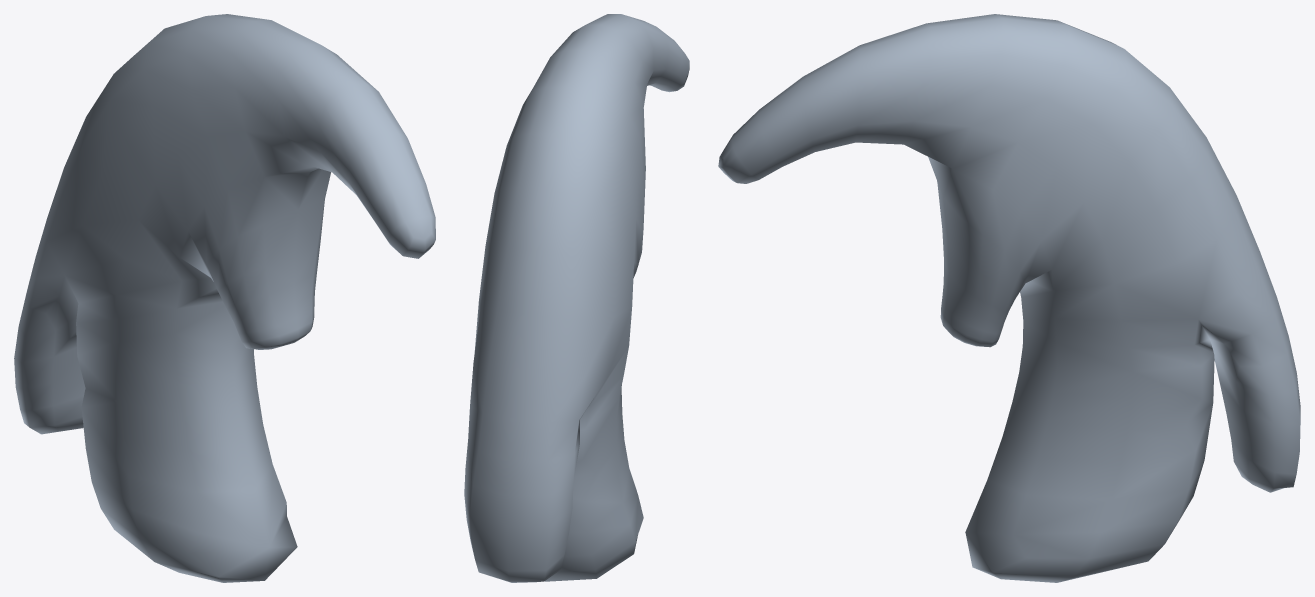
The model's file is Tail_09.fbx.
3 views of the same model, side by side, from view 1: azimuth 30°, elevation 25°; view 2: azimuth 150°, elevation 25°; view 3: azimuth 270°, elevation 25° (orthographic). The views are drawn at different scales.
Visible parts, largest first — view 1: Tail_09; view 2: Tail_09; view 3: Tail_09.
Boxes of the visible parts, x1=… form: Tail_09: x1=14, y1=14, x2=435, y2=582; Tail_09: x1=464, y1=14, x2=689, y2=582; Tail_09: x1=718, y1=14, x2=1300, y2=582.
Size of the model in its own units: 78.9 by 240 by 227.
